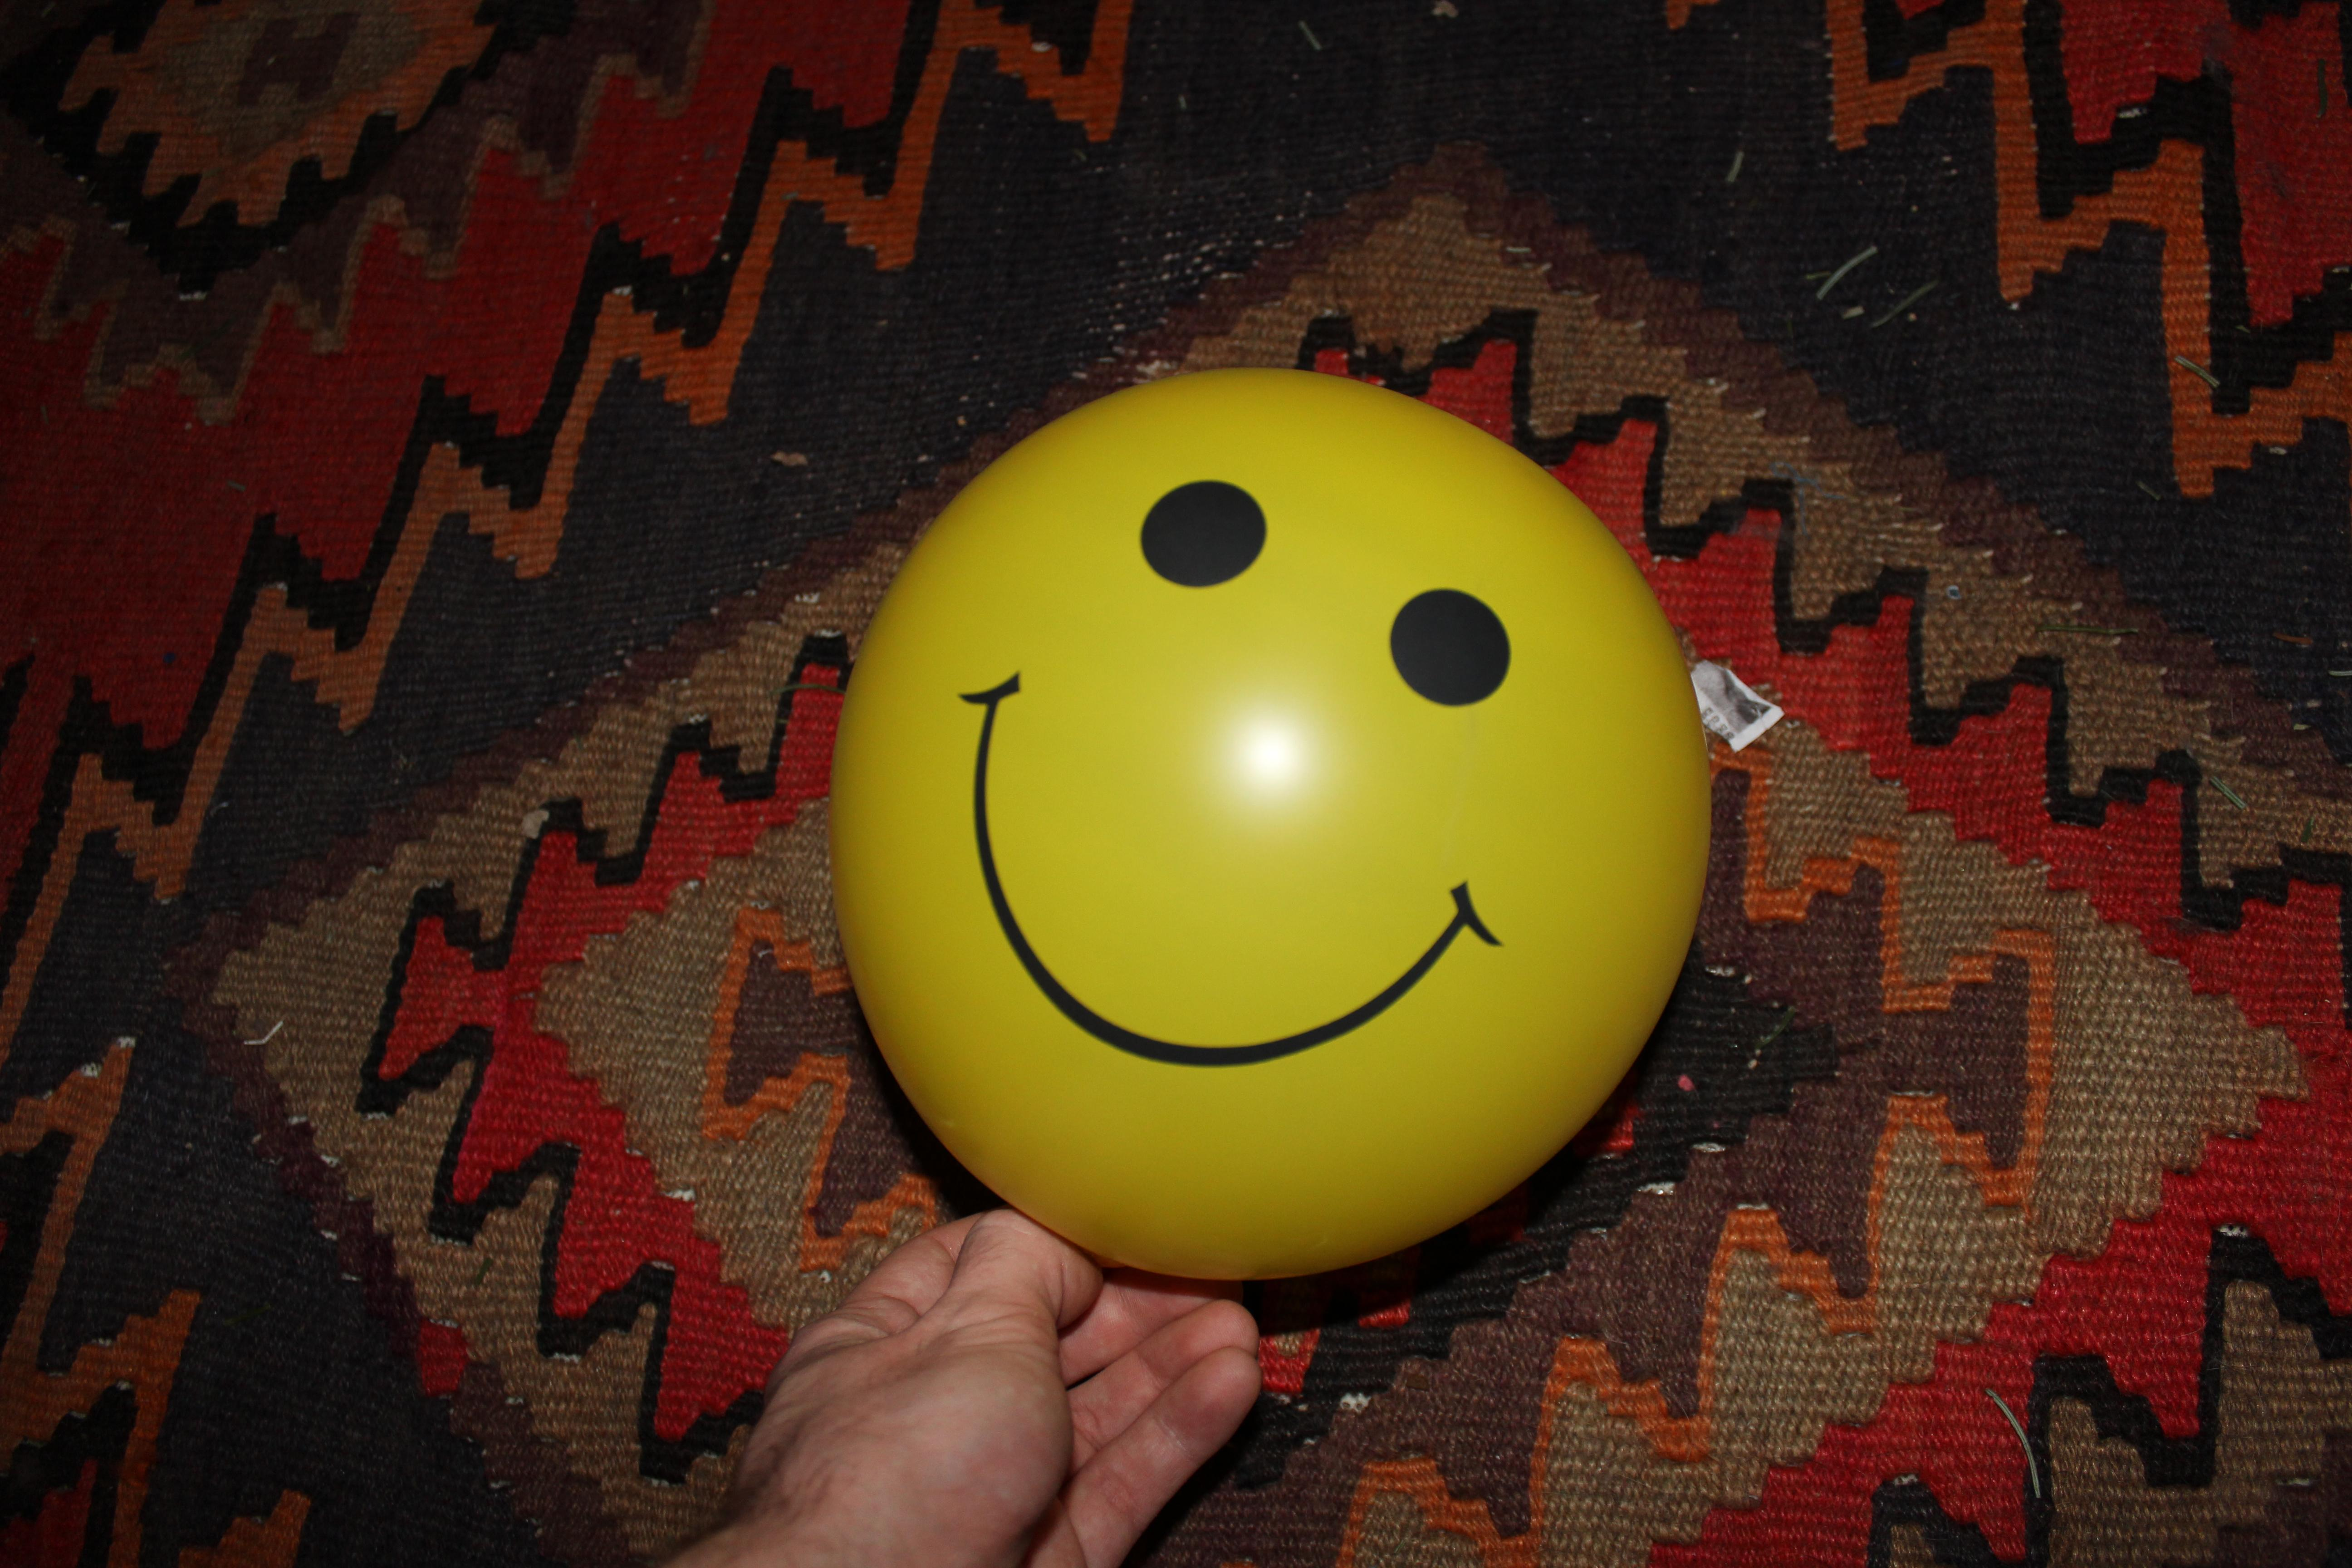yellowBalloon: (780, 332, 1764, 1319)
